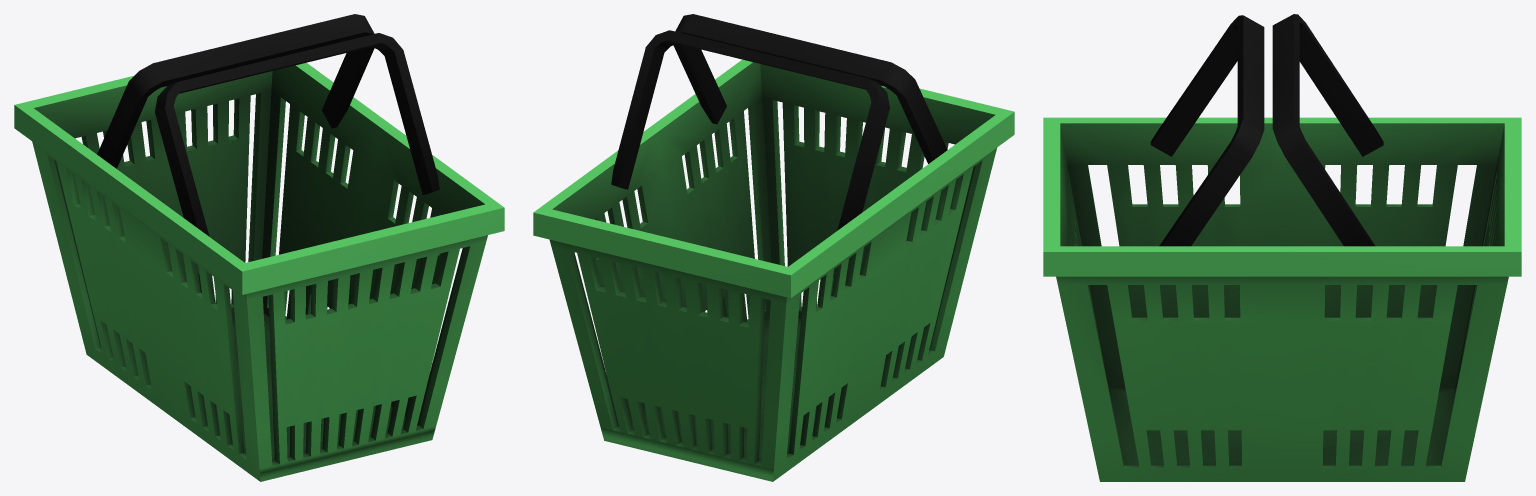
File: human-containers-shopping-basket_v3.fbx
The picture shows the model from 3 angles, left to right: view 1: azimuth 30°, elevation 25°; view 2: azimuth 150°, elevation 25°; view 3: azimuth 270°, elevation 25°; orthographic projection. The views are drawn at different scales.
Parts seen in each view (by area): view 1: Shopping Basket_v3; view 2: Shopping Basket_v3; view 3: Shopping Basket_v3.
Part boxes in pixels (left/top/right/bottom): Shopping Basket_v3: left=14, top=14, right=504, bottom=481; Shopping Basket_v3: left=533, top=14, right=1014, bottom=481; Shopping Basket_v3: left=1043, top=14, right=1521, bottom=481.
Size of the model in its own units: 0.2993 by 0.3867 by 0.45.
